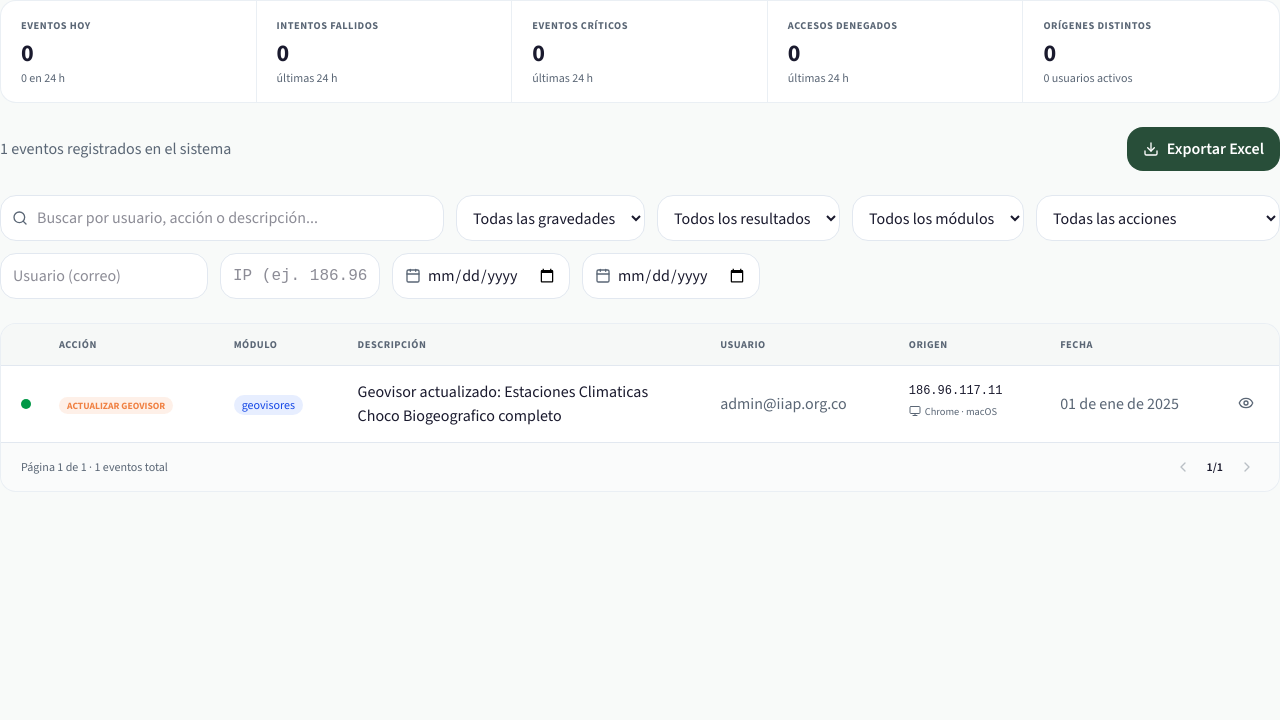
Test: AuditoriaTab — detalle del evento › se cierra con el botón y con Escape
Click the button named "Ver detalle de Actualizar geovisor" at (1246, 403), box [1232,389,1260,417]
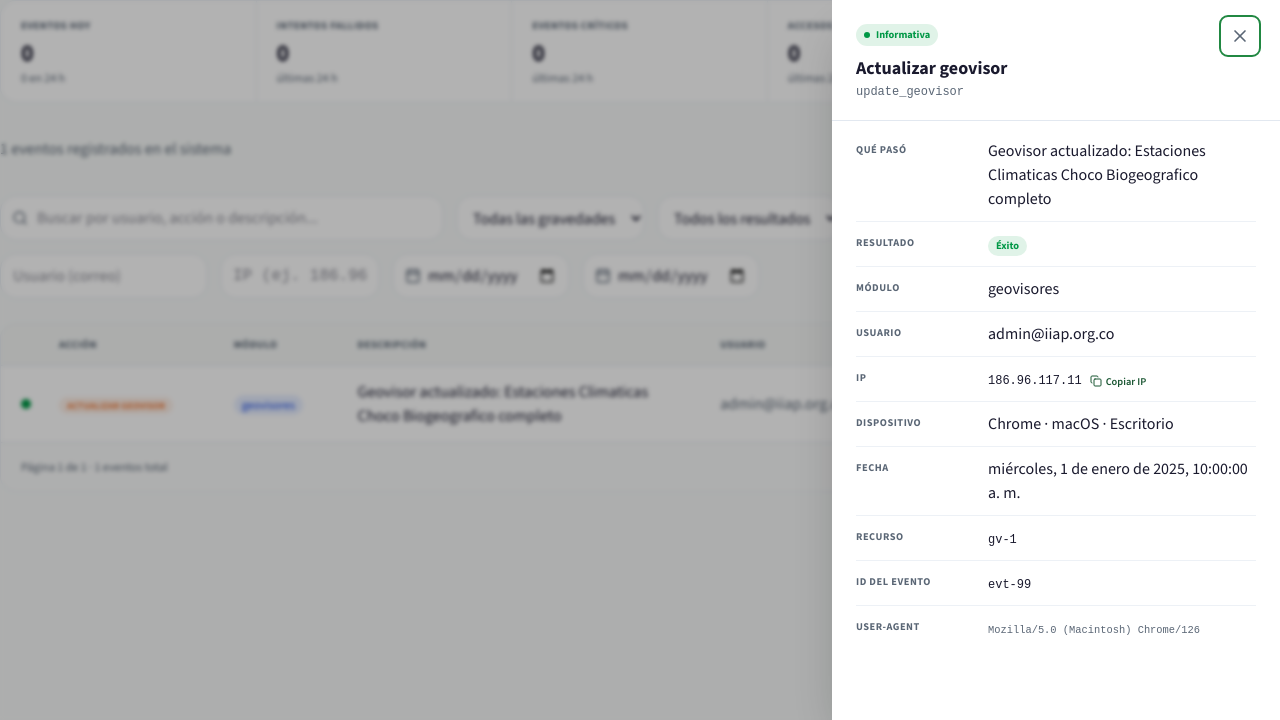
Click the button named "Cerrar detalle" at (1240, 36), box [1224,20,1256,52]
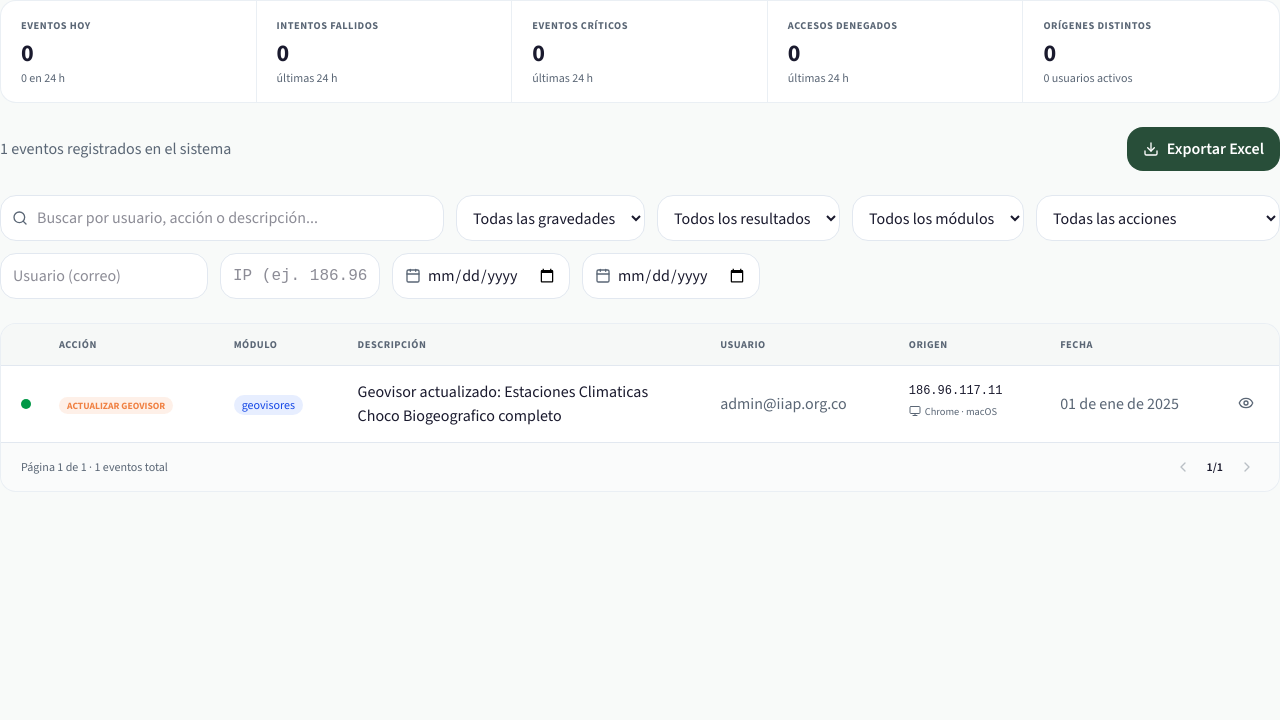
Expected: the dialog is gone
Click the button named "Ver detalle de Actualizar geovisor" at (1246, 403), box [1232,389,1260,417]
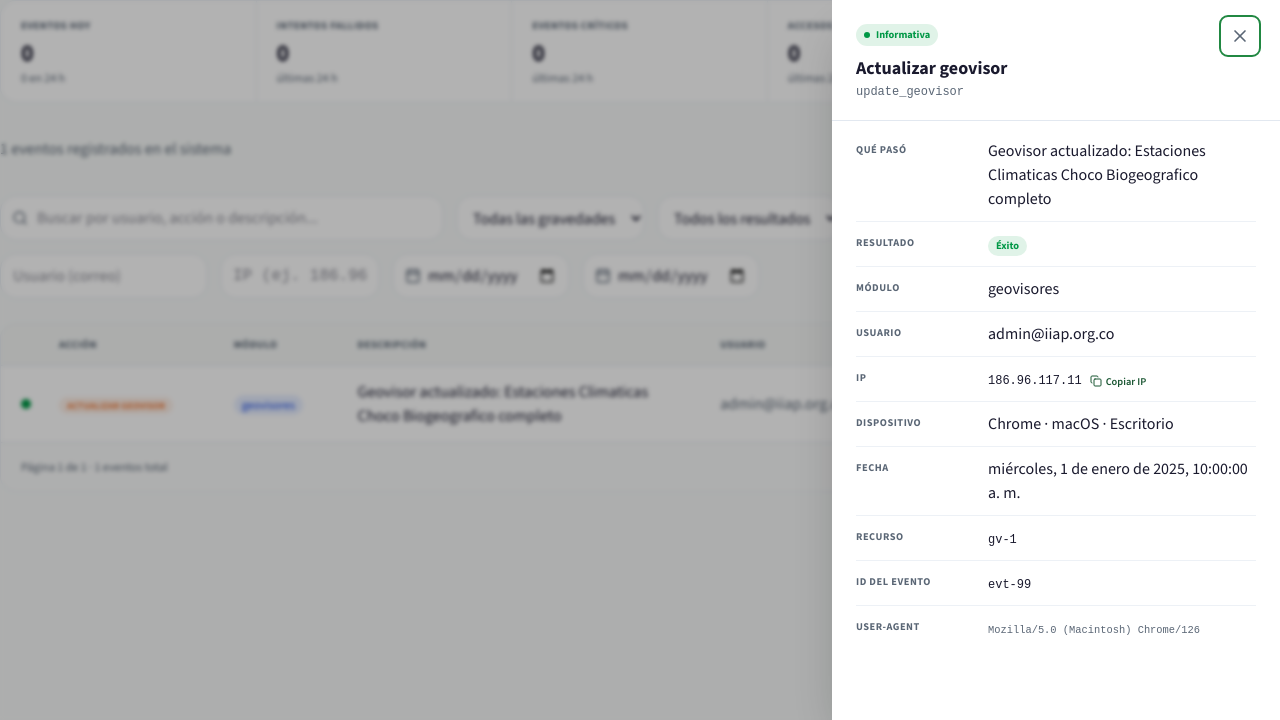
Press Escape
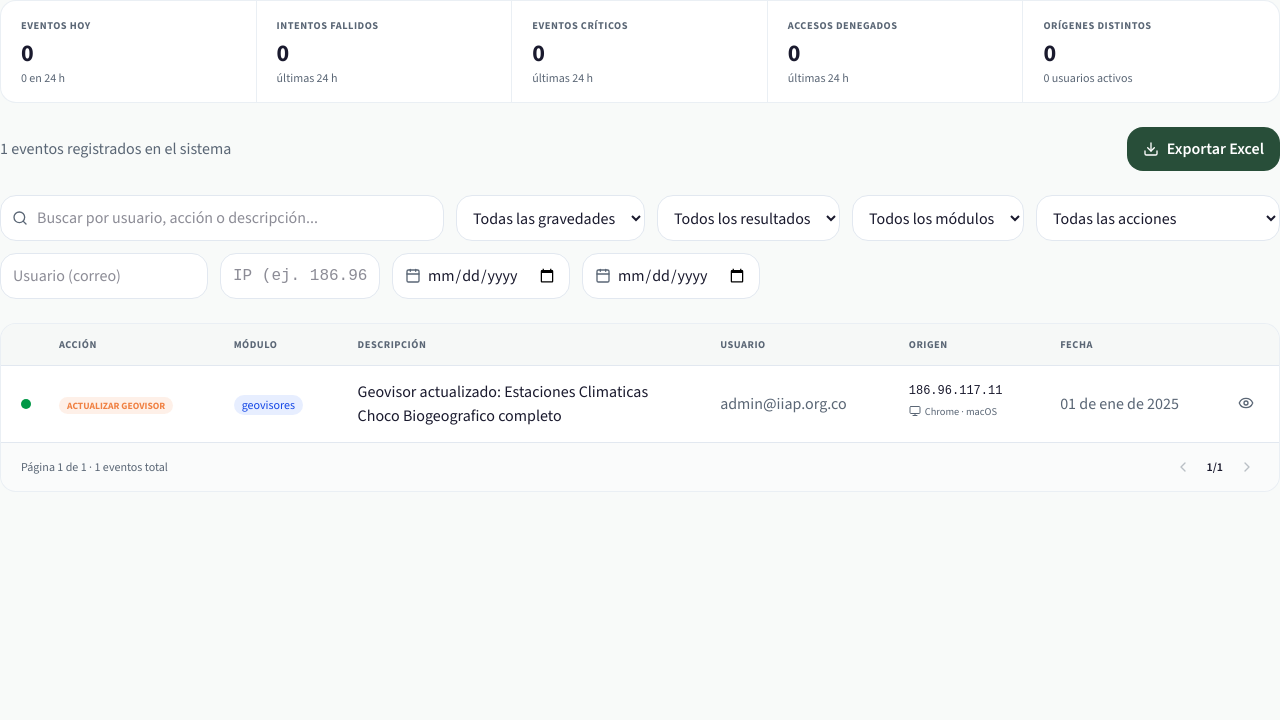
Expected: the dialog is gone
